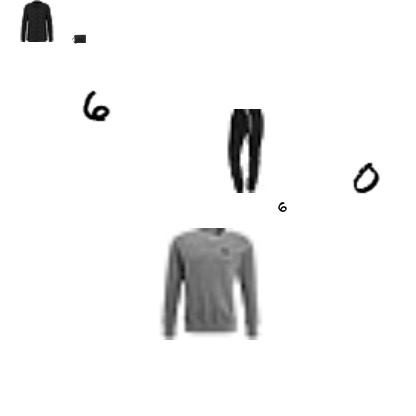1: (176, 42, 260, 126)
2: (33, 253, 55, 275)
5: (42, 158, 84, 200)
6: (248, 143, 276, 171)
8: (321, 19, 363, 61)
Ankle_boot: (284, 304, 340, 360)
Pullover: (154, 281, 238, 365), (92, 104, 148, 160)
Sandal: (282, 120, 394, 232), (266, 287, 280, 301)
